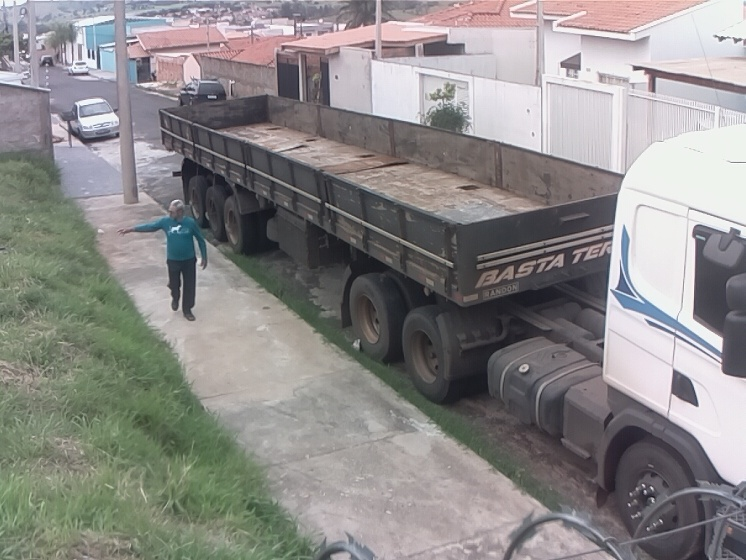person: (115, 196, 211, 327)
